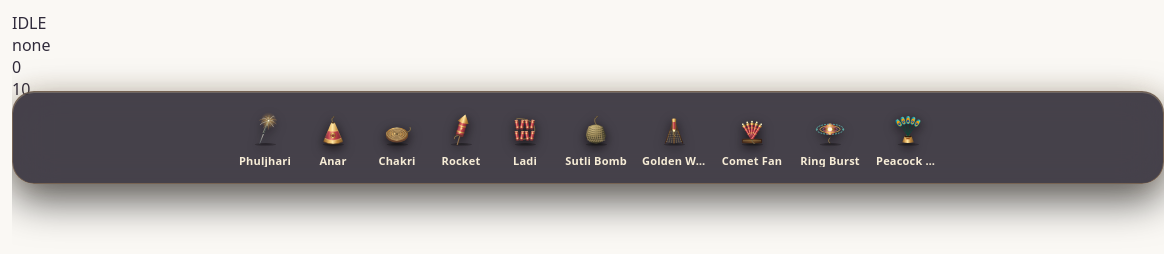
it: G1 — Eliminate stale unlock, sticker, and introduction queries › grown-up unlock updates selectable content immediately without remounting or returning home
The width and height of the screenshot is (1164, 254).
What coordinates should you click on to do the following:
click the option "Sutli Bomb"
I would click on:
 (596, 138)
Its box is [560, 103, 632, 172].
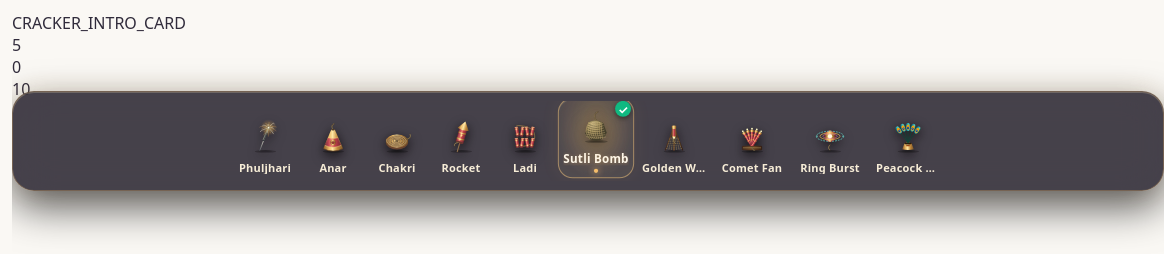
Check: the text "CRACKER_INTRO_CARD" is shown, box [12, 12, 186, 34]
